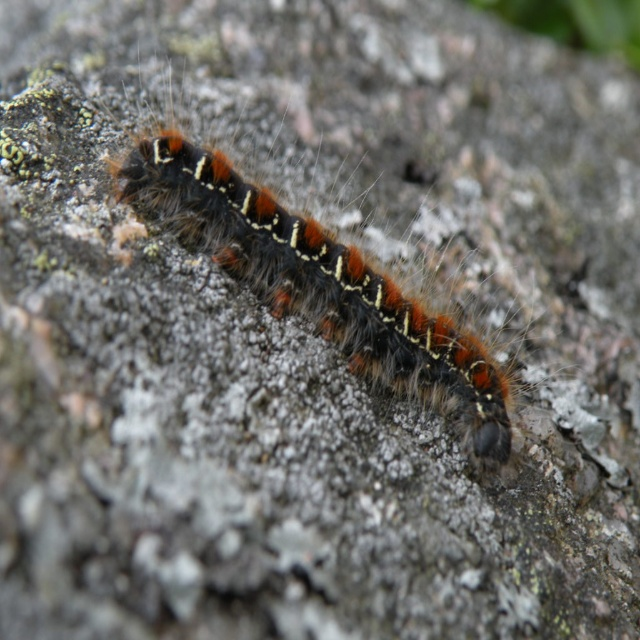Caterpillar: (99, 42, 586, 485)
